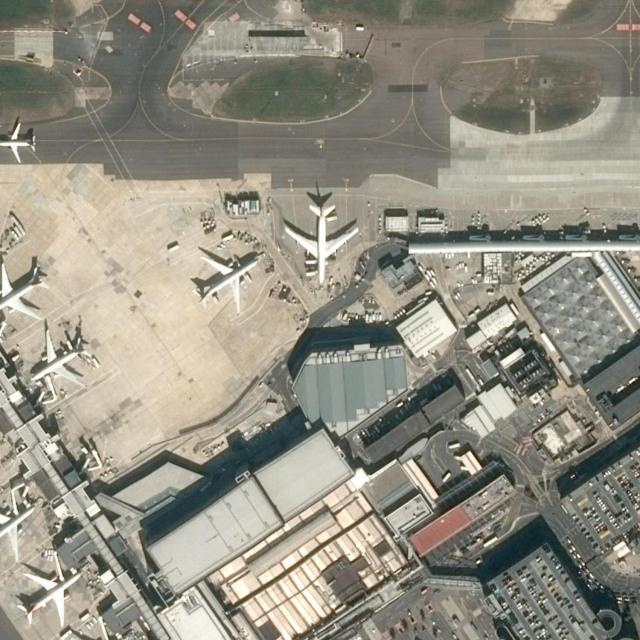Aircraft: (282, 198, 359, 287), (13, 565, 85, 626), (192, 251, 260, 313), (30, 327, 89, 387), (0, 260, 47, 320), (0, 496, 36, 566), (0, 118, 40, 161)
